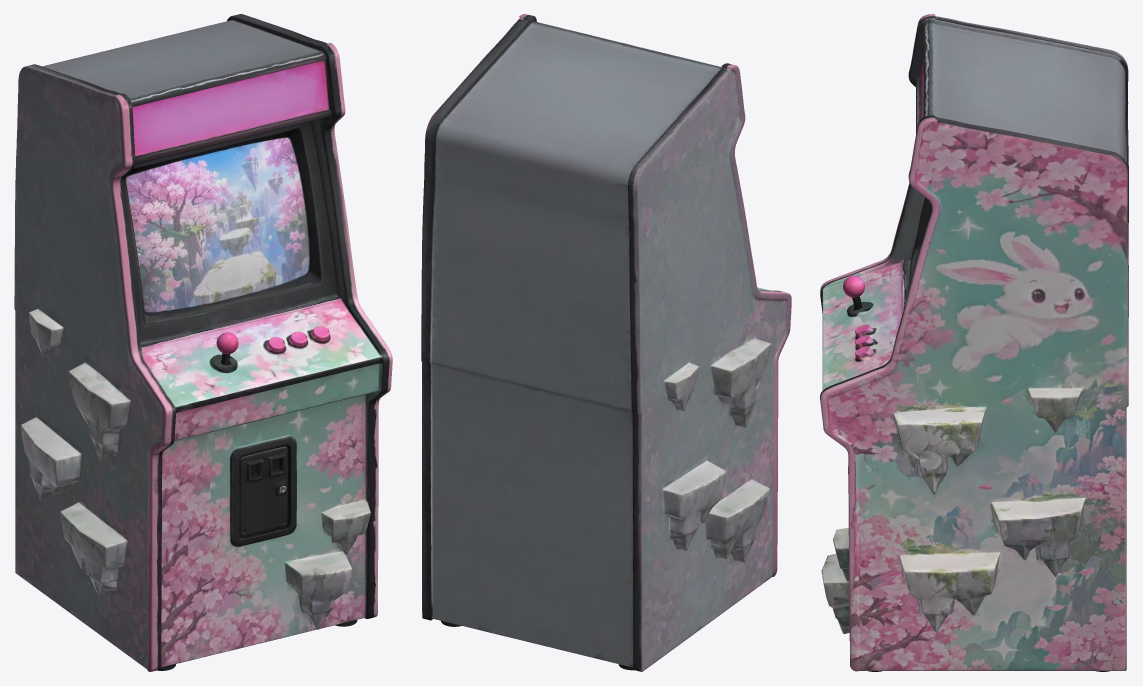
Rendered from cab-bhop.glb.
3 views of the same model, side by side, from view 1: azimuth 30°, elevation 25°; view 2: azimuth 150°, elevation 25°; view 3: azimuth 270°, elevation 25° (orthographic). The views are drawn at different scales.
Parts seen in each view (by area): view 1: tripo_node_e1026348-4ffa-497a-803d-6bacf31c6adb; view 2: tripo_node_e1026348-4ffa-497a-803d-6bacf31c6adb; view 3: tripo_node_e1026348-4ffa-497a-803d-6bacf31c6adb.
Part boxes in pixels (left/top/right/bottom): tripo_node_e1026348-4ffa-497a-803d-6bacf31c6adb: left=14, top=14, right=392, bottom=671; tripo_node_e1026348-4ffa-497a-803d-6bacf31c6adb: left=421, top=14, right=791, bottom=671; tripo_node_e1026348-4ffa-497a-803d-6bacf31c6adb: left=820, top=14, right=1128, bottom=671.
Size of the model in its own units: 0.5175 by 0.9797 by 0.4939.
1 material, 1 textured.
